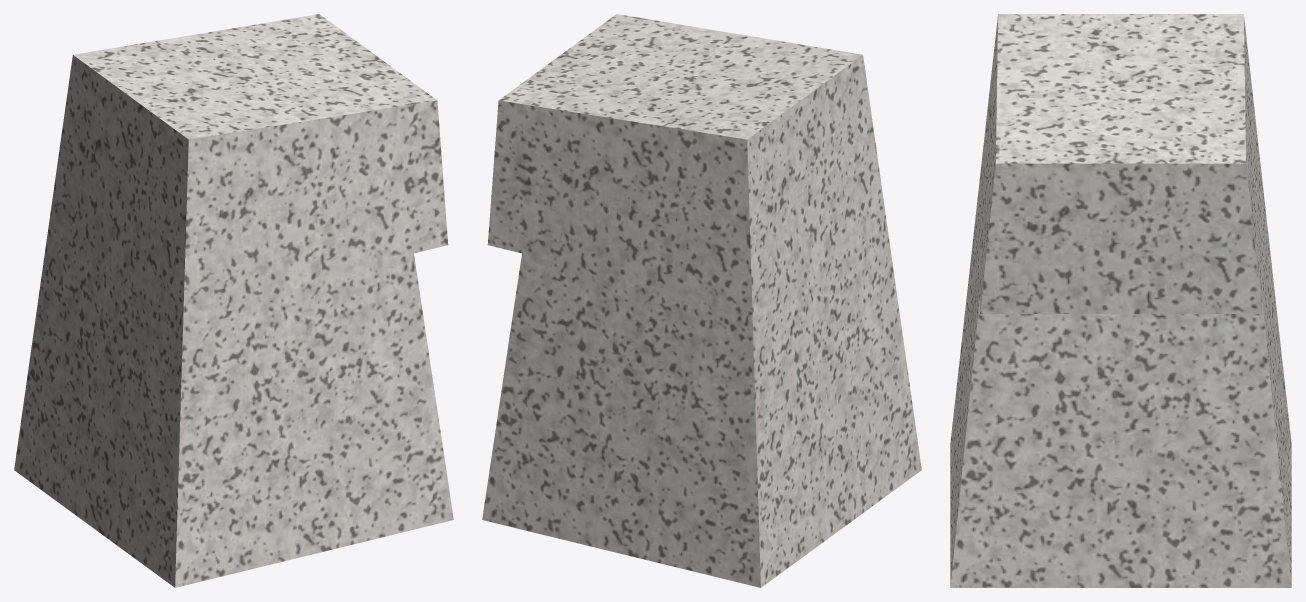
Rendered from white_knight.glb.
The picture shows the model from 3 angles, left to right: view 1: azimuth 30°, elevation 25°; view 2: azimuth 150°, elevation 25°; view 3: azimuth 270°, elevation 25°; orthographic projection. The views are drawn at different scales.
Visible parts, largest first — view 1: White_Knight; view 2: White_Knight; view 3: White_Knight.
Boxes of the visible parts, <box> form: White_Knight: <box>14,14,453,587</box>; White_Knight: <box>482,14,921,587</box>; White_Knight: <box>950,14,1291,587</box>.
Size of the model in its own units: 0.035 by 0.0493 by 0.034.
Materials: 1 (1 with a texture image).
